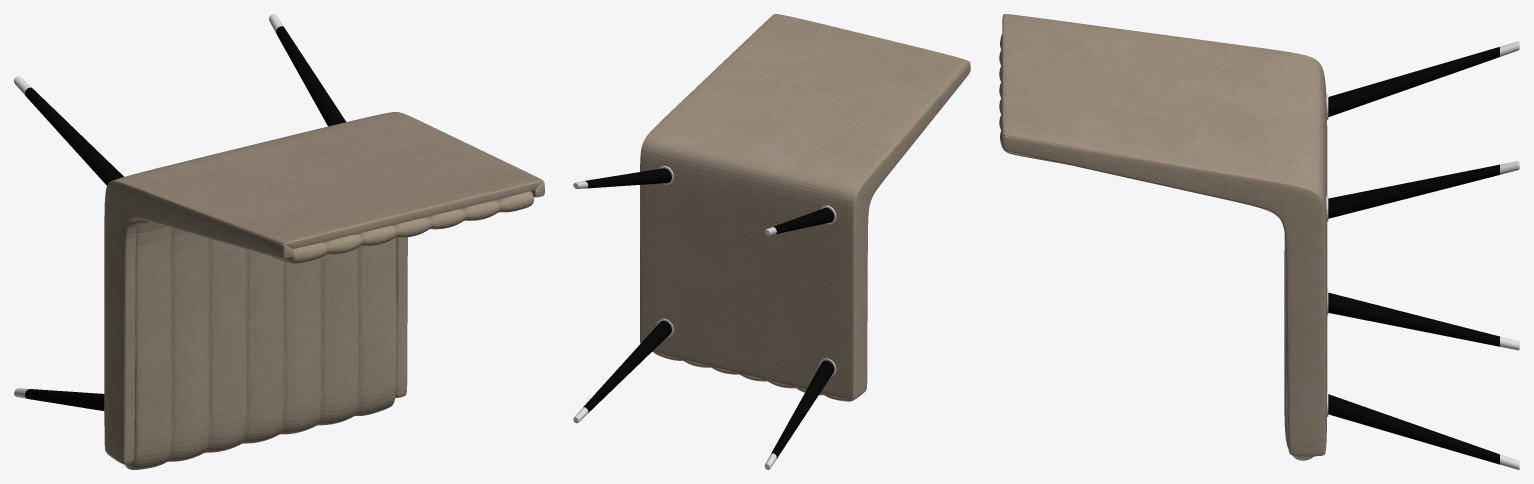
File: kitchenChair2.glb
The picture shows the model from 3 angles, left to right: view 1: azimuth 30°, elevation 25°; view 2: azimuth 150°, elevation 25°; view 3: azimuth 270°, elevation 25°; orthographic projection. The views are drawn at different scales.
Parts seen in each view (by area): view 1: Loso Chair N041225; view 2: Loso Chair N041225; view 3: Loso Chair N041225.
Boxes of the visible parts, left/top/right/bottom form: Loso Chair N041225: left=14, top=14, right=544, bottom=469; Loso Chair N041225: left=573, top=14, right=970, bottom=469; Loso Chair N041225: left=999, top=14, right=1519, bottom=469.
Size of the model in its own units: 605 by 708 by 990.
3 materials, 1 textured.
